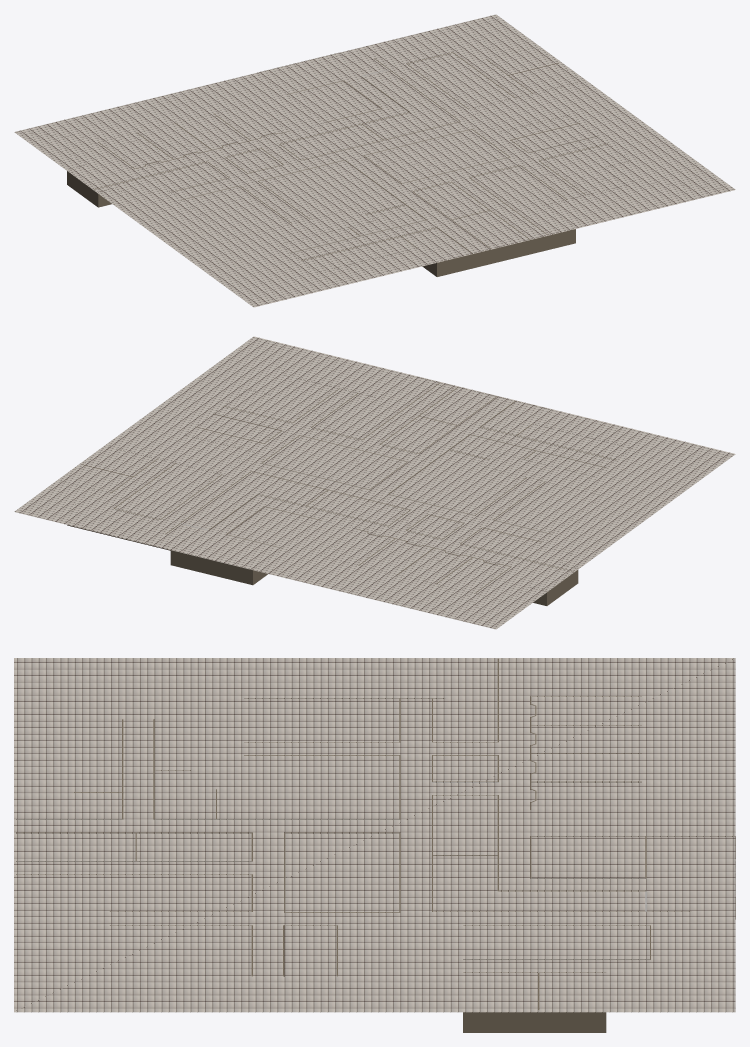
The model's file is Section1.fbx.
3 views of the same model, one above another, from view 1: azimuth 30°, elevation 25°; view 2: azimuth 150°, elevation 25°; view 3: azimuth 270°, elevation 25° (orthographic). The views are drawn at different scales.
Visible parts, largest first — view 1: Ceiling, Walls; view 2: Ceiling, Walls; view 3: Ceiling, Walls.
Part boxes in pixels (x1,y1,x2,y2): Ceiling: (14,14,735,307); Walls: (67,52,626,276); Ceiling: (14,336,735,629); Walls: (67,382,616,605); Ceiling: (14,658,735,1012); Walls: (16,658,735,1032).
Size of the model in its own units: 8389 by 250 by 7227.
Materials: 5 (4 with a texture image).
